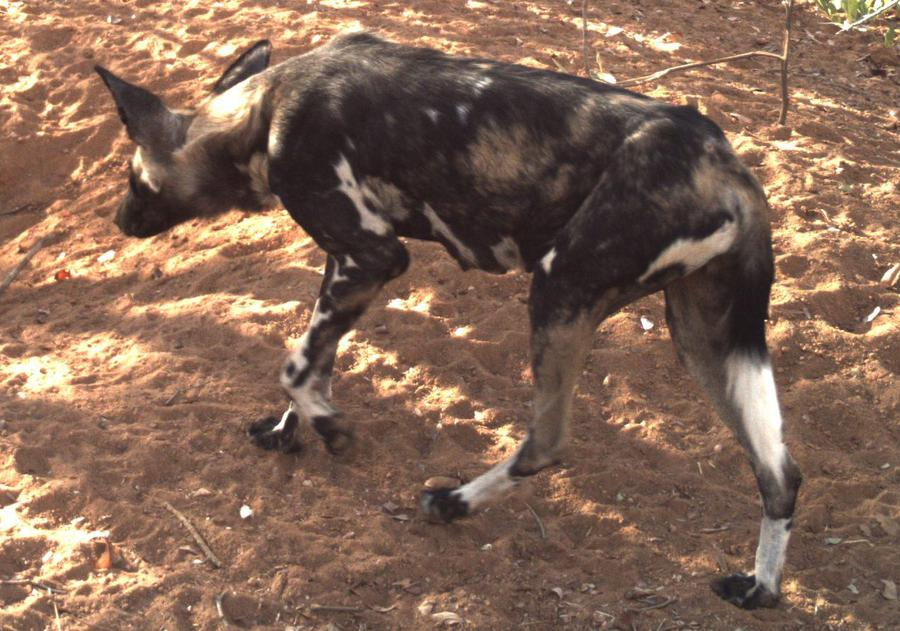wilddog: (156, 32, 765, 426)
